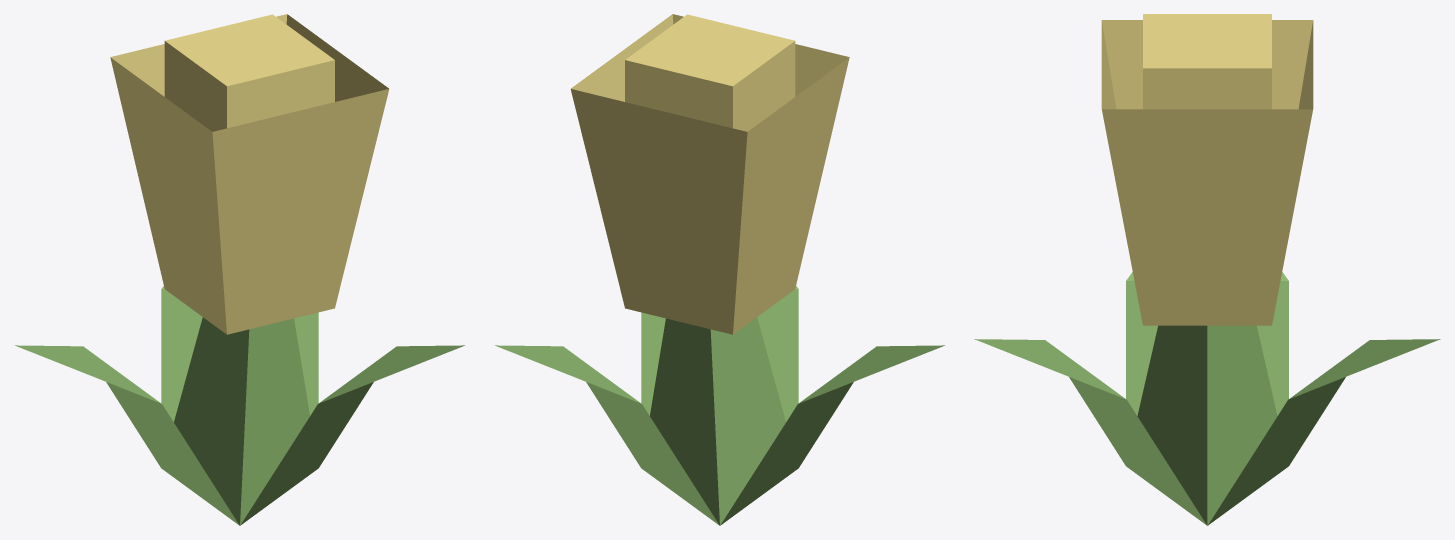
File: flower-yellow.glb
3 views of the same model, side by side, from view 1: azimuth 30°, elevation 25°; view 2: azimuth 150°, elevation 25°; view 3: azimuth 270°, elevation 25° (orthographic). The views are drawn at different scales.
Parts seen in each view (by area): view 1: flower_yellowA; view 2: flower_yellowA; view 3: flower_yellowA.
Boxes of the visible parts, x1=… form: flower_yellowA: x1=15, y1=14, x2=464, y2=525; flower_yellowA: x1=495, y1=14, x2=944, y2=525; flower_yellowA: x1=974, y1=14, x2=1440, y2=525.
Size of the model in its own units: 0.2314 by 0.28 by 0.2634.
